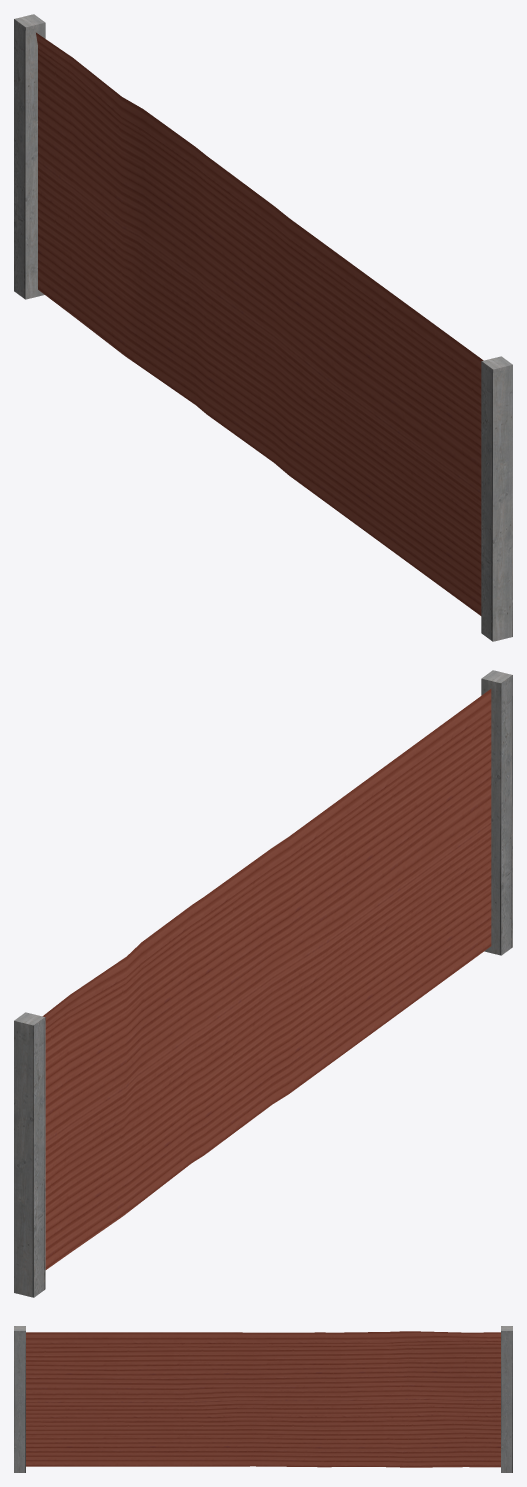
File: houe_back.fbx
3 renders of one model, top to bottom at view 1: azimuth 30°, elevation 25°; view 2: azimuth 150°, elevation 25°; view 3: azimuth 270°, elevation 25°, orthographic. The views are drawn at different scales.
Parts seen in each view (by area): view 1: pCube48; view 2: pCube48; view 3: pCube48.
Part boxes in pixels (x1,y1,x2,y2): pCube48: [14, 14, 512, 641]; pCube48: [14, 670, 512, 1297]; pCube48: [14, 1326, 512, 1472].
Size of the model in its own units: 0.2567 by 3.34 by 10.64.
